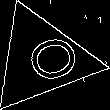O_W: (8, 30, 76, 89)
